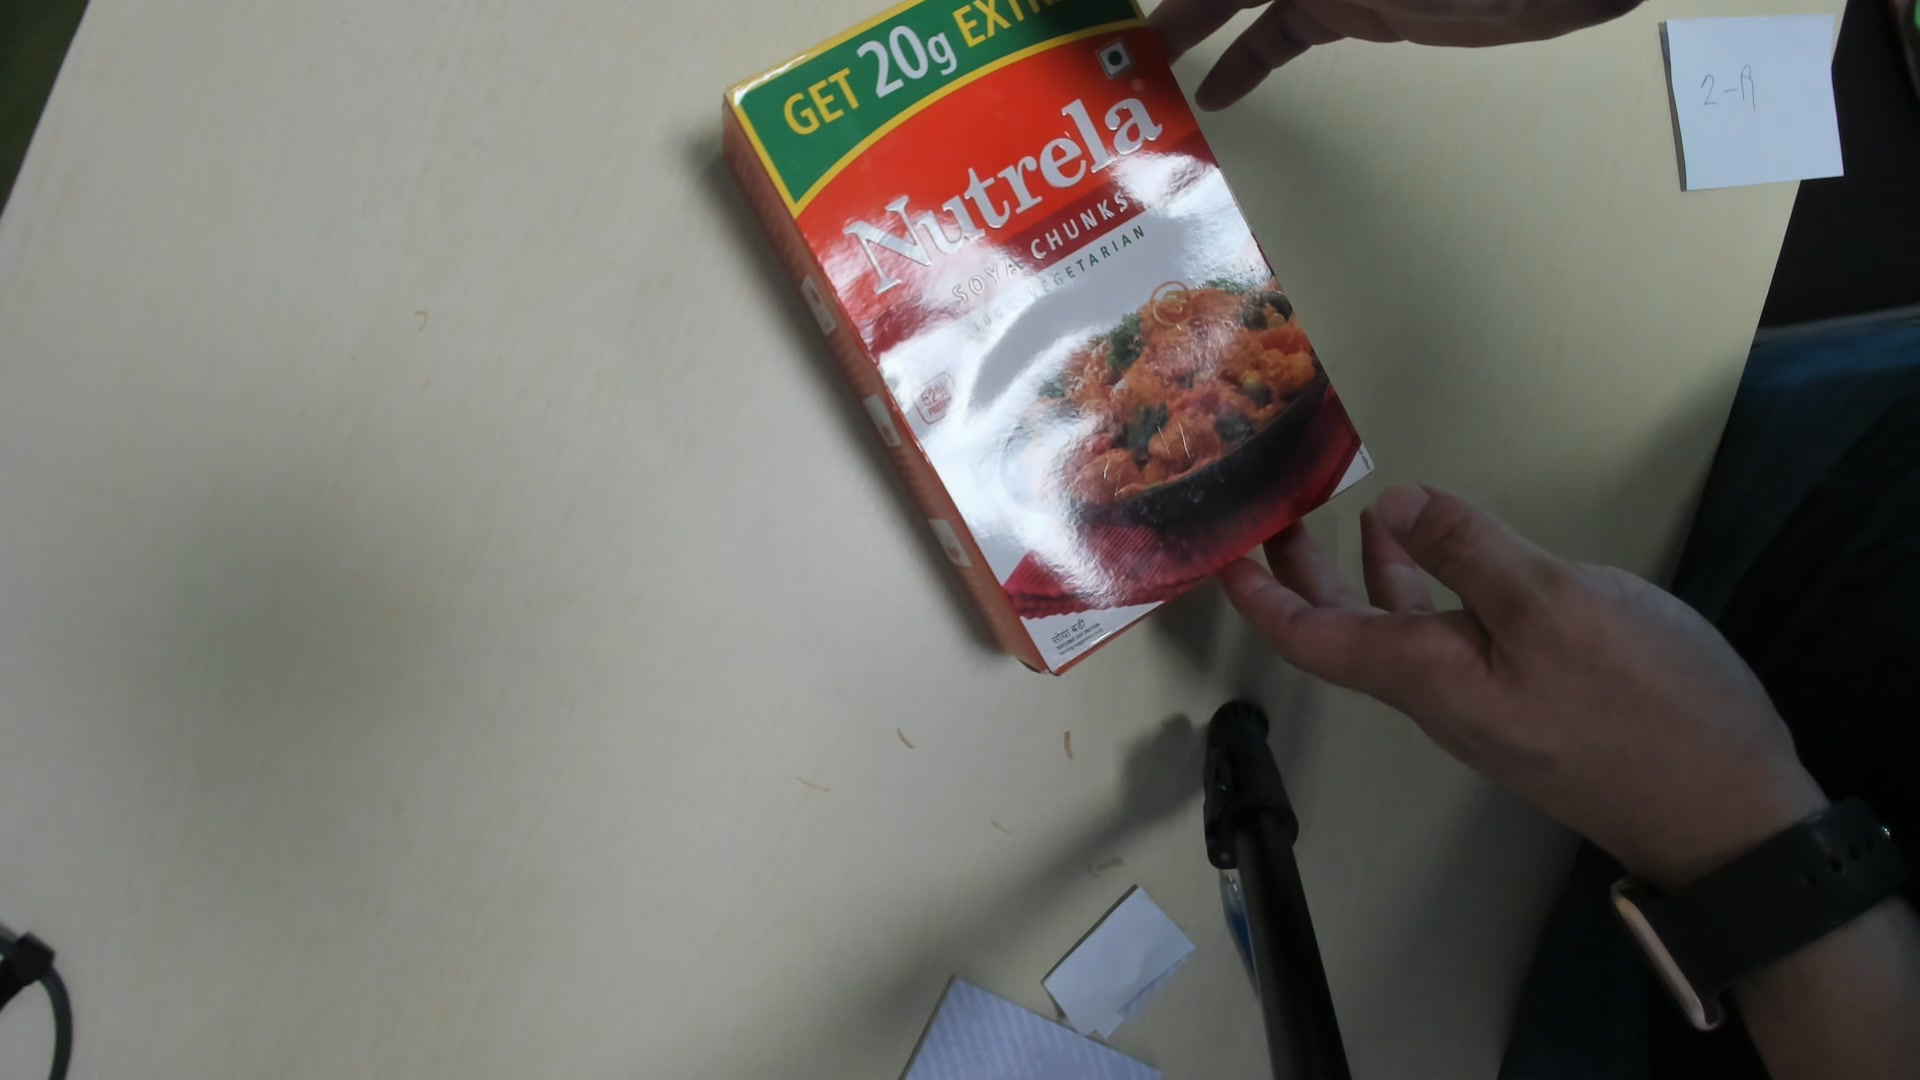InstantMeals_200_299g_NonHalal_NonHealthy: (727, 13, 1381, 680)
